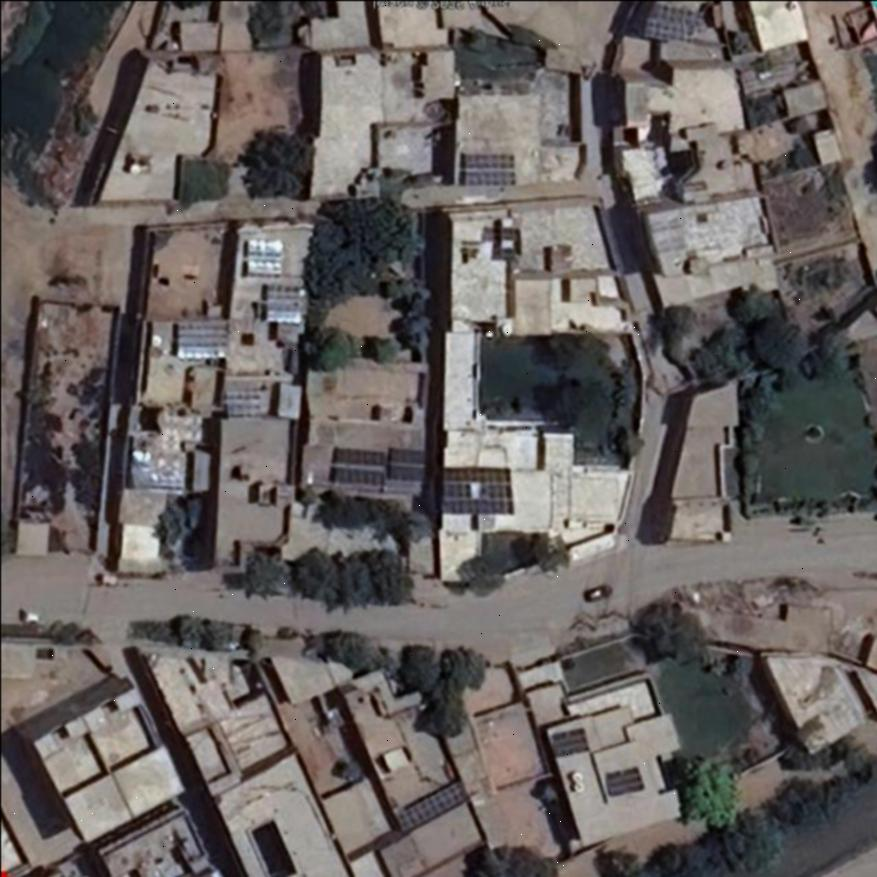Solarpanel: (396, 781, 464, 832), (442, 467, 513, 513), (332, 446, 385, 488), (460, 155, 514, 187), (178, 321, 227, 355), (386, 445, 428, 480), (244, 240, 281, 275), (604, 765, 645, 796), (265, 286, 300, 320), (551, 729, 588, 757)
